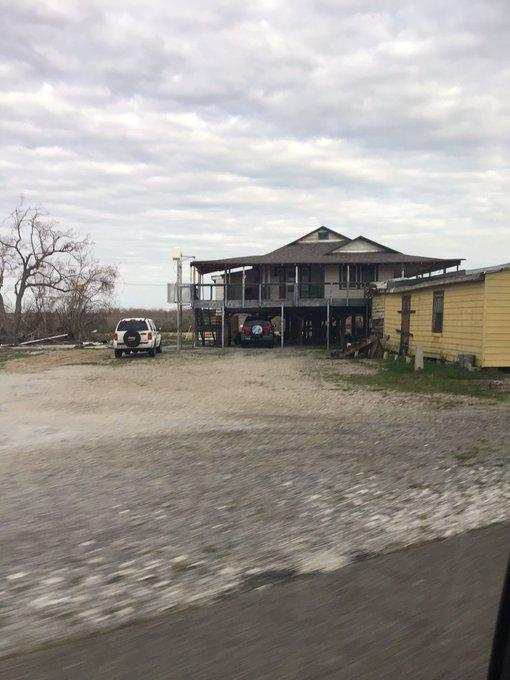affected: (168, 217, 465, 360)
major: (354, 258, 510, 380)
